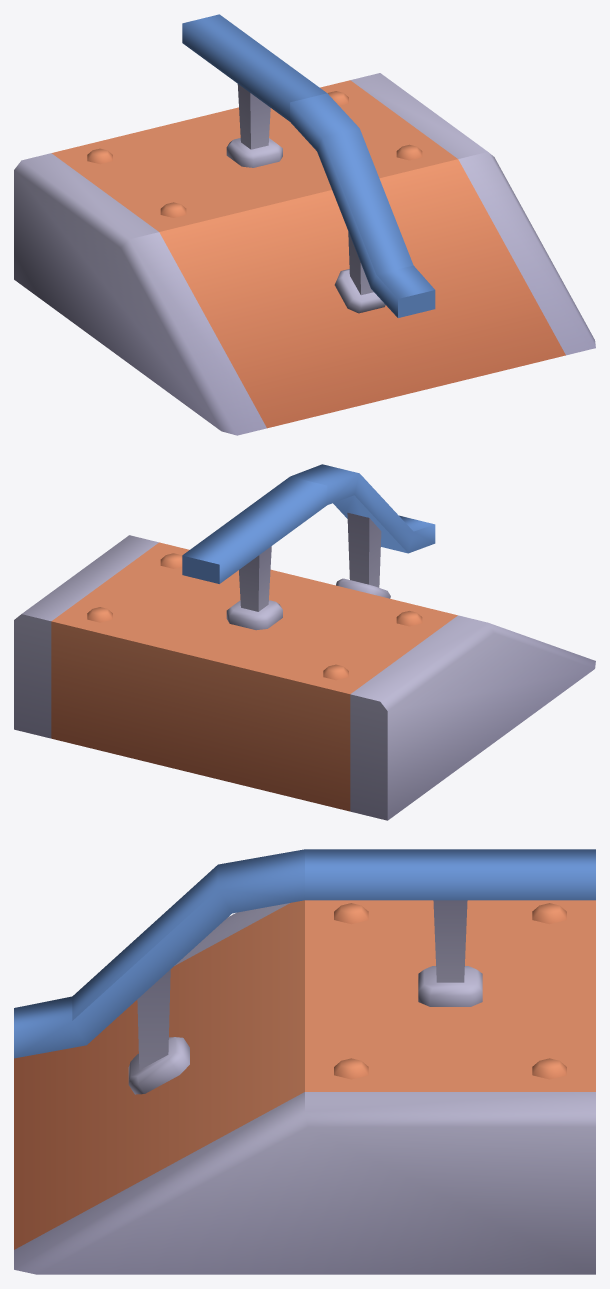
File: ramp-rail.fbx
The picture shows the model from 3 angles, top to bottom: view 1: azimuth 30°, elevation 25°; view 2: azimuth 150°, elevation 25°; view 3: azimuth 270°, elevation 25°; orthographic projection. The views are drawn at different scales.
Parts seen in each view (by area): view 1: ramp-rail; view 2: ramp-rail; view 3: ramp-rail.
Boxes of the visible parts, <box> form: ramp-rail: <box>14,14,595,435</box>; ramp-rail: <box>14,464,595,820</box>; ramp-rail: <box>14,849,595,1274</box>.
Size of the model in its own units: 100 by 55 by 100.
1 material, 1 textured.
